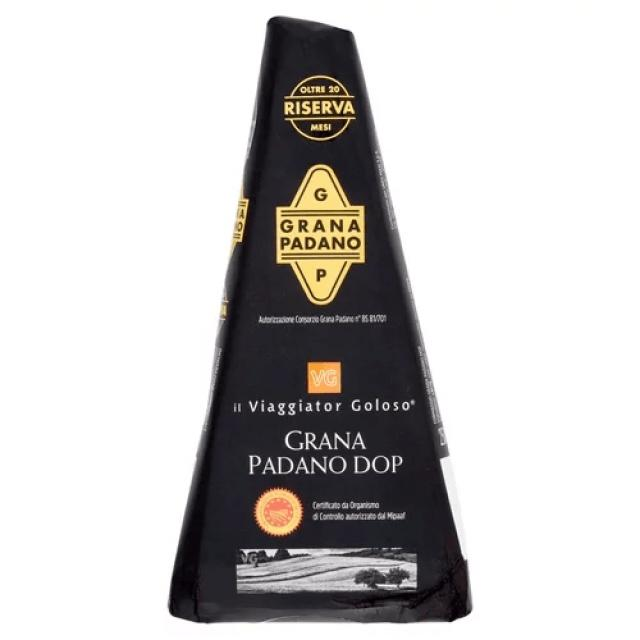cheese: (168, 15, 474, 627)
